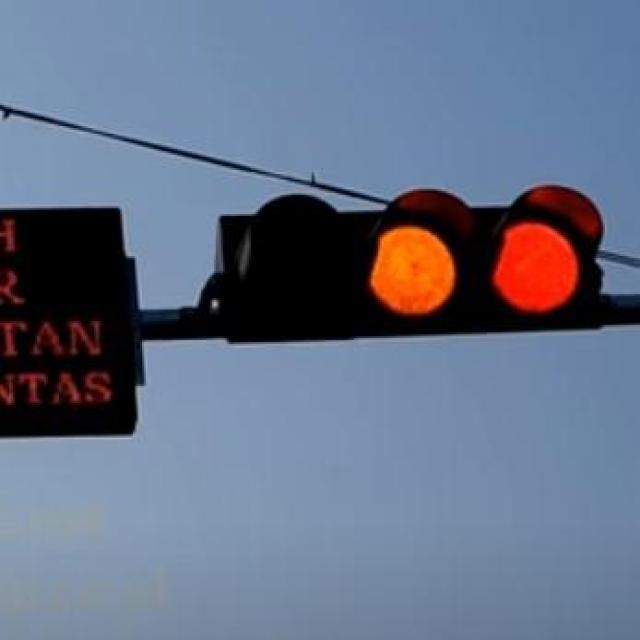yellow_light: (216, 183, 609, 344)
